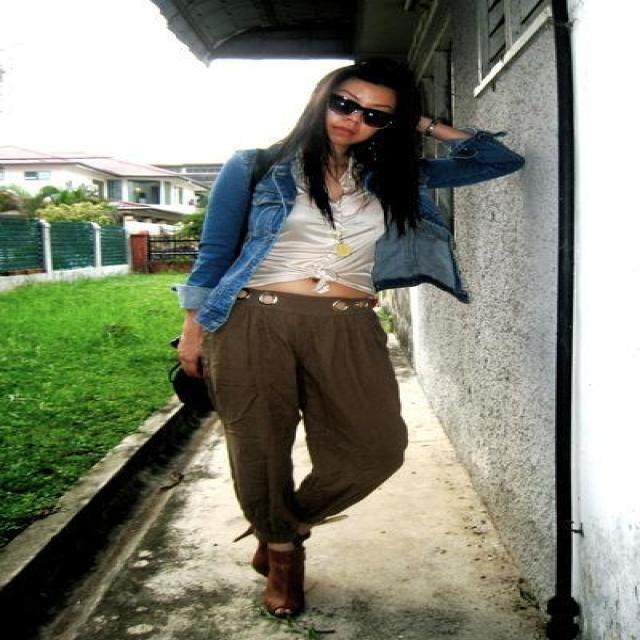jacket: (181, 122, 525, 330)
pants: (200, 288, 406, 547)
shirt: (260, 192, 386, 288)
shoe: (251, 544, 309, 626)
sunglass: (326, 91, 379, 138)
